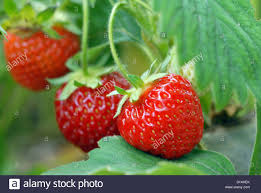ripe: (52, 65, 142, 156), (114, 73, 205, 160), (4, 17, 85, 90)
